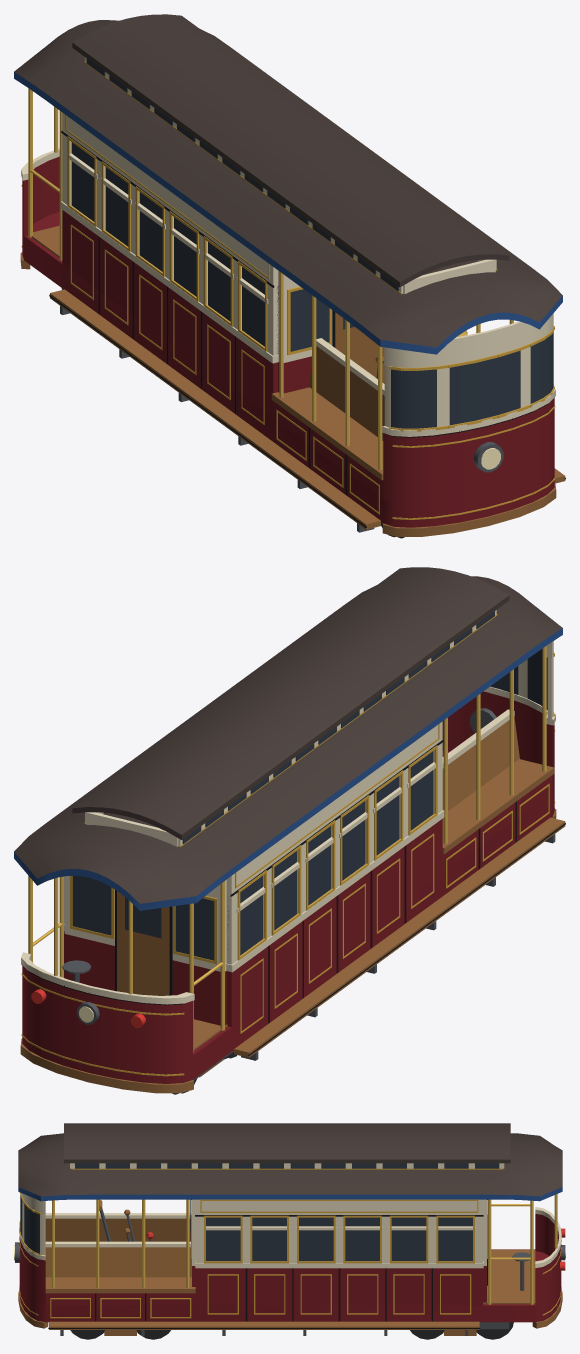
Rendered from cable_car.glb.
The picture shows the model from 3 angles, top to bottom: view 1: azimuth 30°, elevation 25°; view 2: azimuth 150°, elevation 25°; view 3: azimuth 270°, elevation 25°; orthographic projection. The views are drawn at different scales.
Visible parts, largest first — view 1: body; view 2: body; view 3: body, wheel_R2.
Boxes of the visible parts, x1=… form: body: x1=14, y1=14, x2=565, y2=536; body: x1=14, y1=567, x2=565, y2=1093; body: x1=14, y1=1123, x2=565, y2=1335; wheel_R2: x1=476, y1=1322, x2=513, y2=1339.
Bounding box in the file's own units: 2.41 × 3.23 × 8.45.
